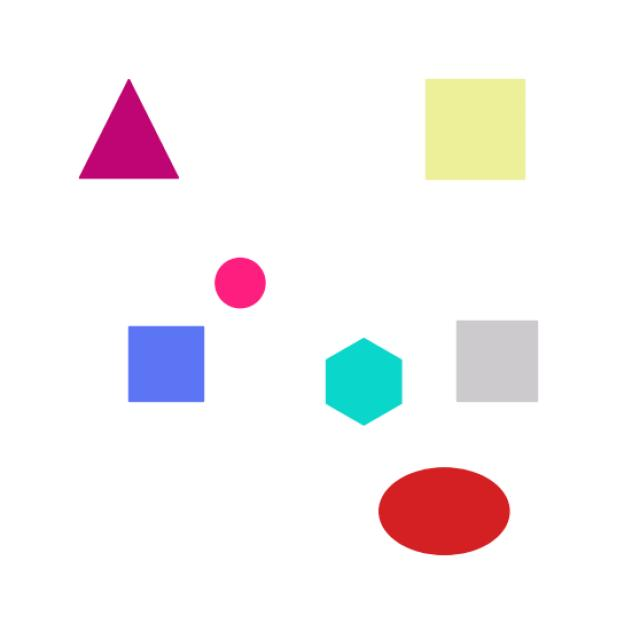Circle: (199, 258, 284, 322)
Oval: (366, 464, 523, 561)
Triangle: (63, 71, 185, 189)
square: (397, 63, 561, 200), (444, 297, 564, 423), (114, 318, 243, 430), (308, 332, 416, 441)
